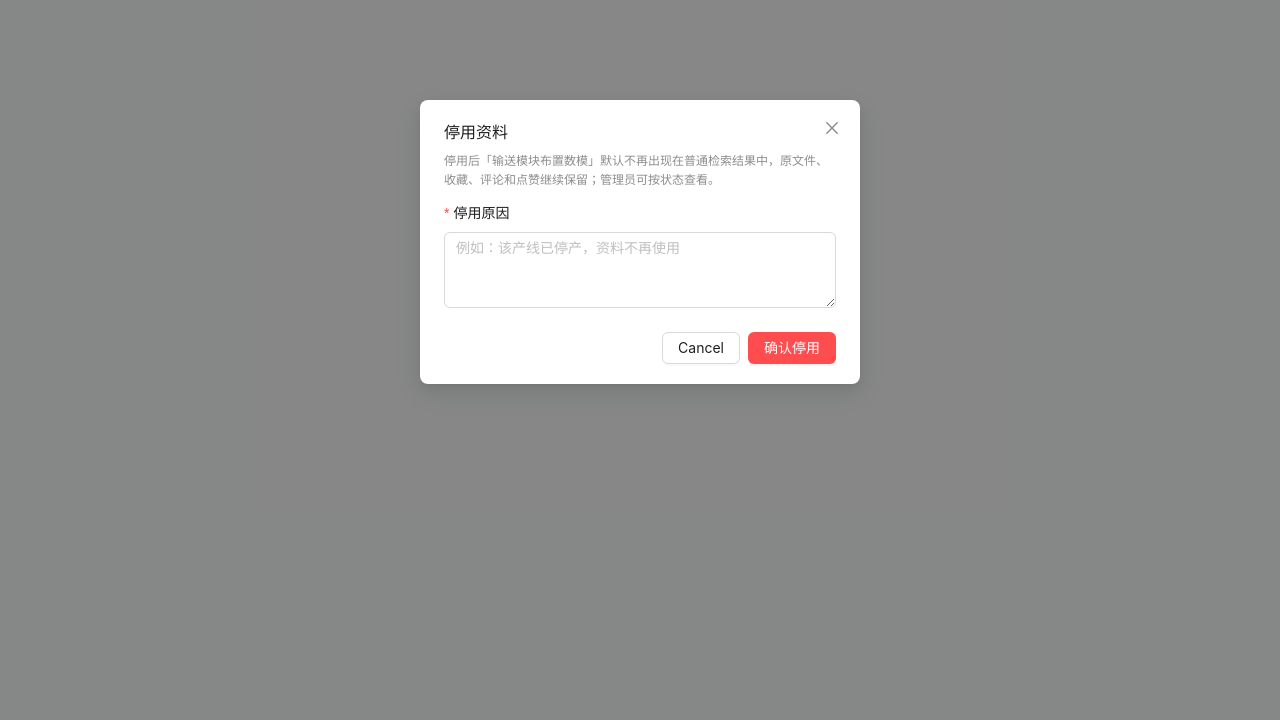
DisableDialog › submits the trimmed reason and shows server errors
The image size is (1280, 720).
Type "  该产线已停产  " into the text box with placeholder "例如：该产线已停产，资料不再使用" at {"x": 640, "y": 270}, box [444,232,836,308]
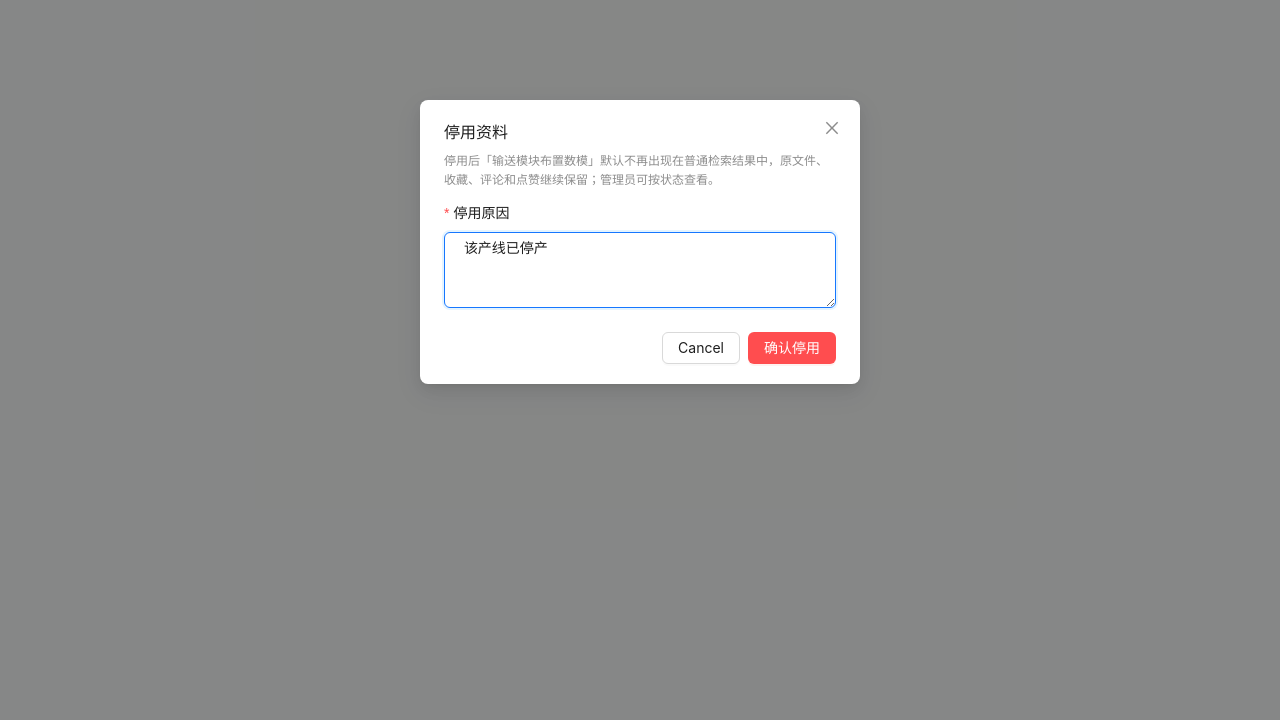
Click the button "确认停用" at {"x": 792, "y": 348}, box [748,332,836,364]
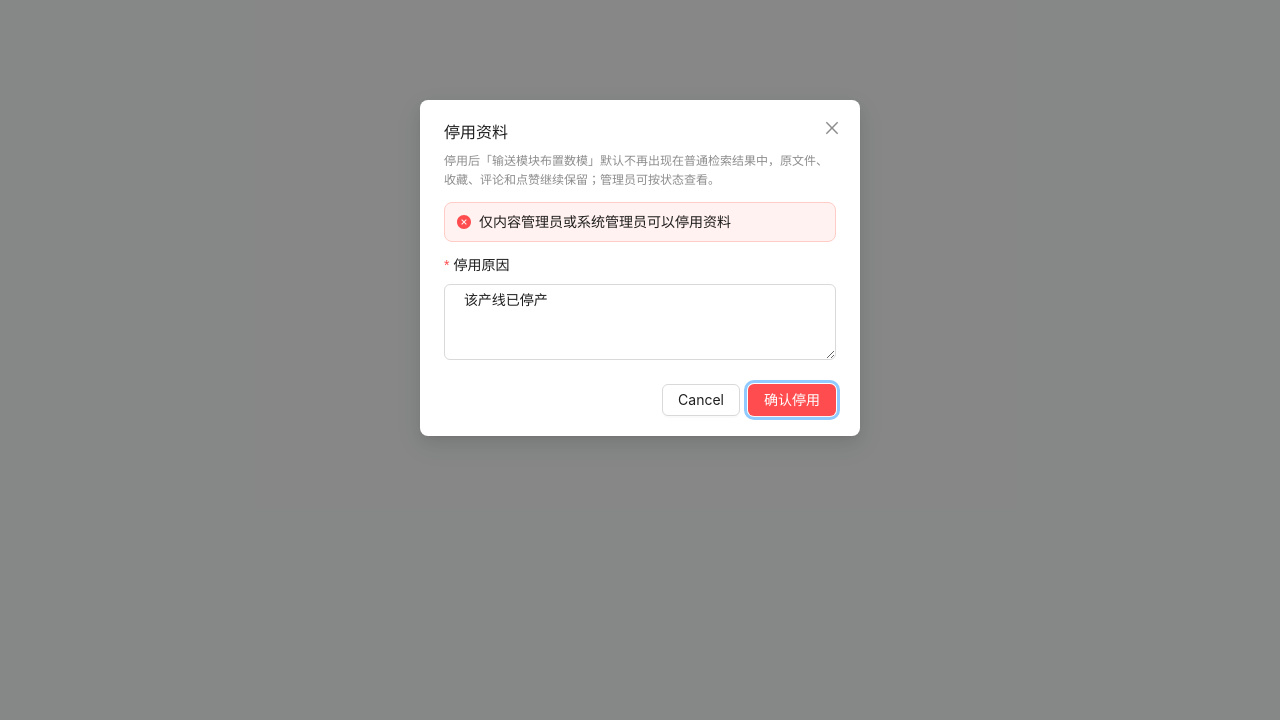
Expected: the text "仅内容管理员或系统管理员可以停用资料" is shown, [479,213,731,230]
